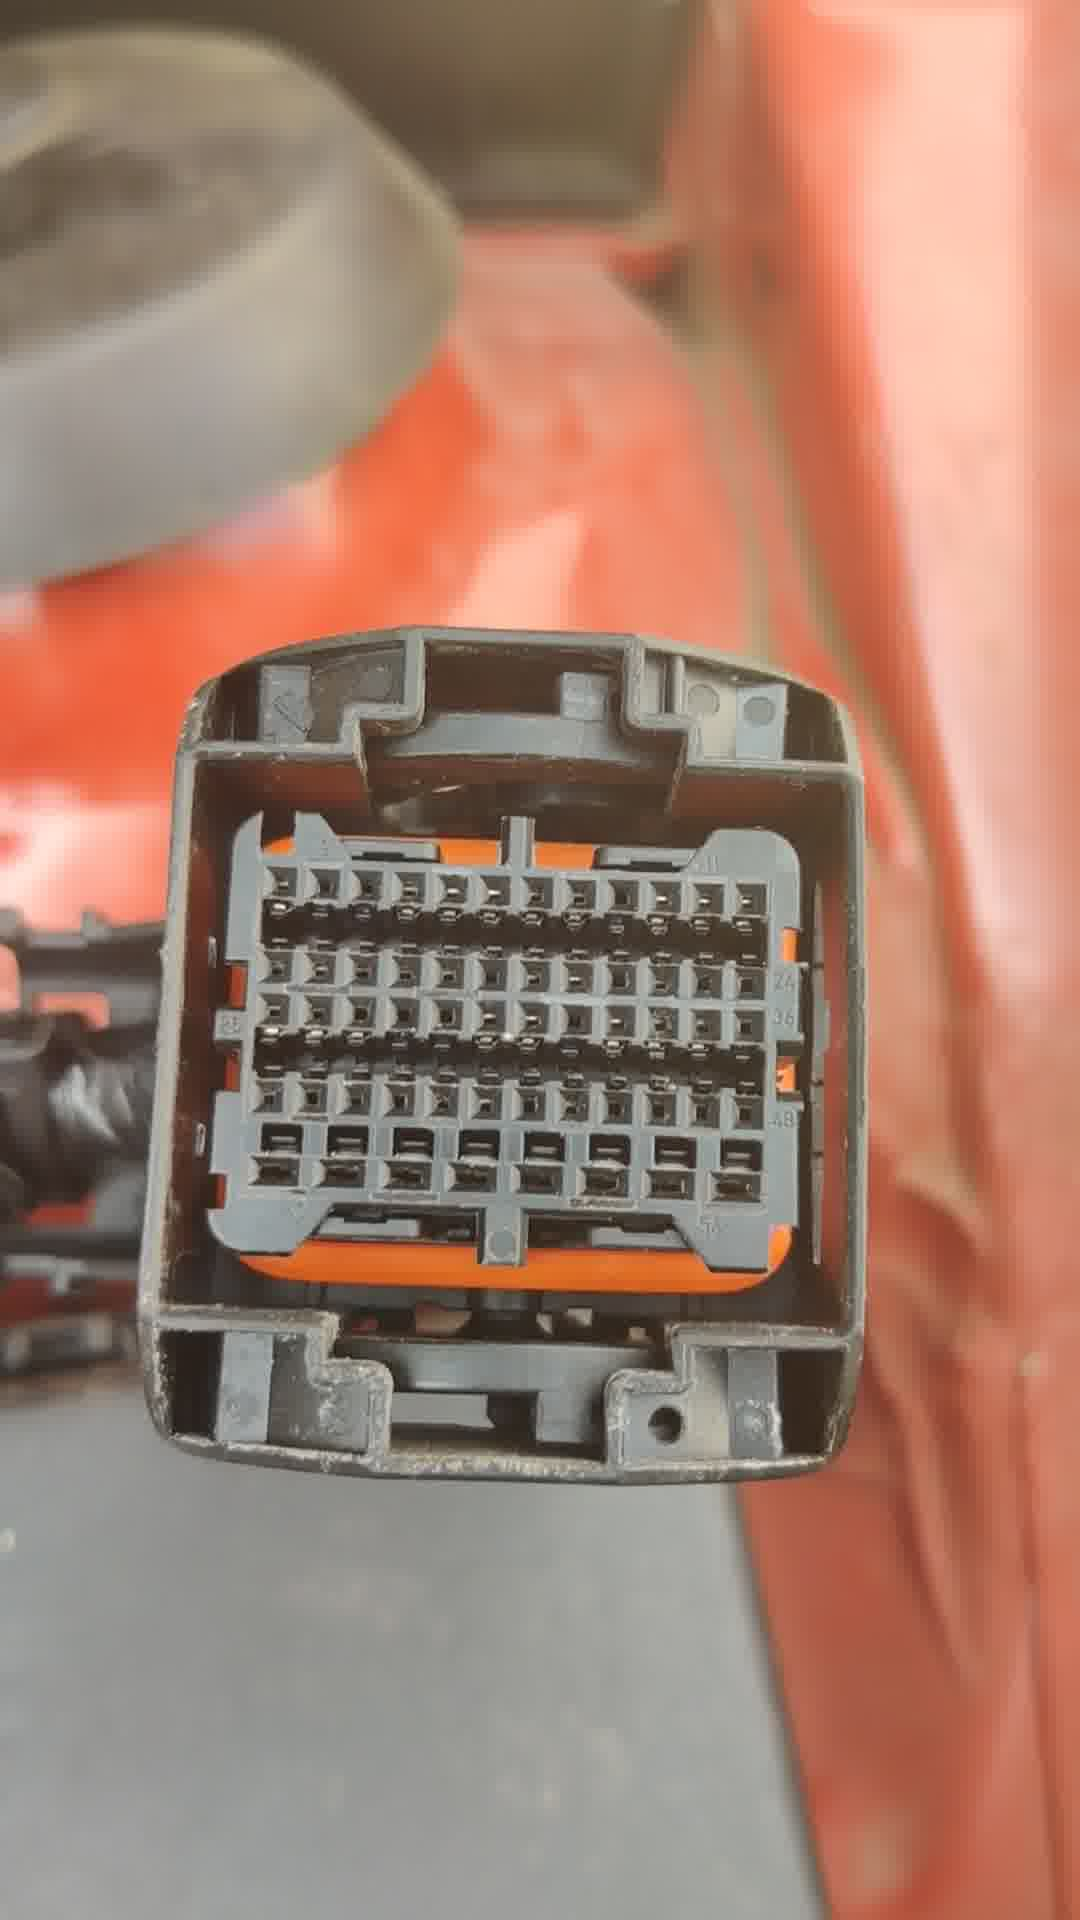connector: (136, 625, 876, 1489)
